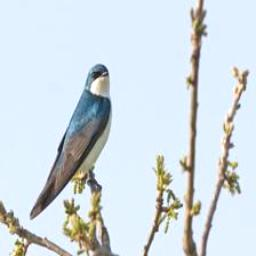Swallow: (25, 56, 117, 222)
